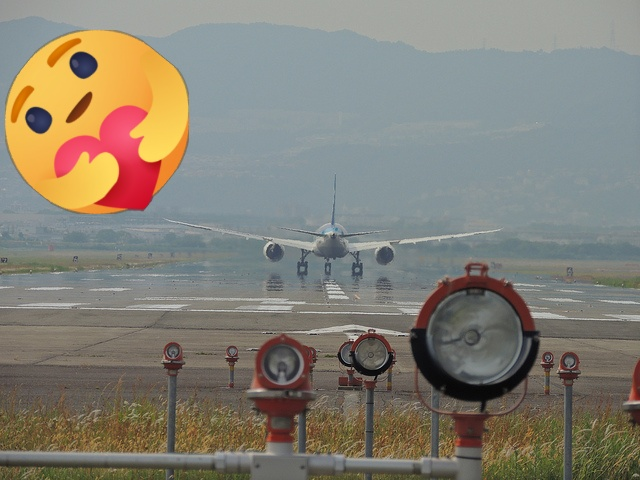care: (5, 30, 189, 214)
